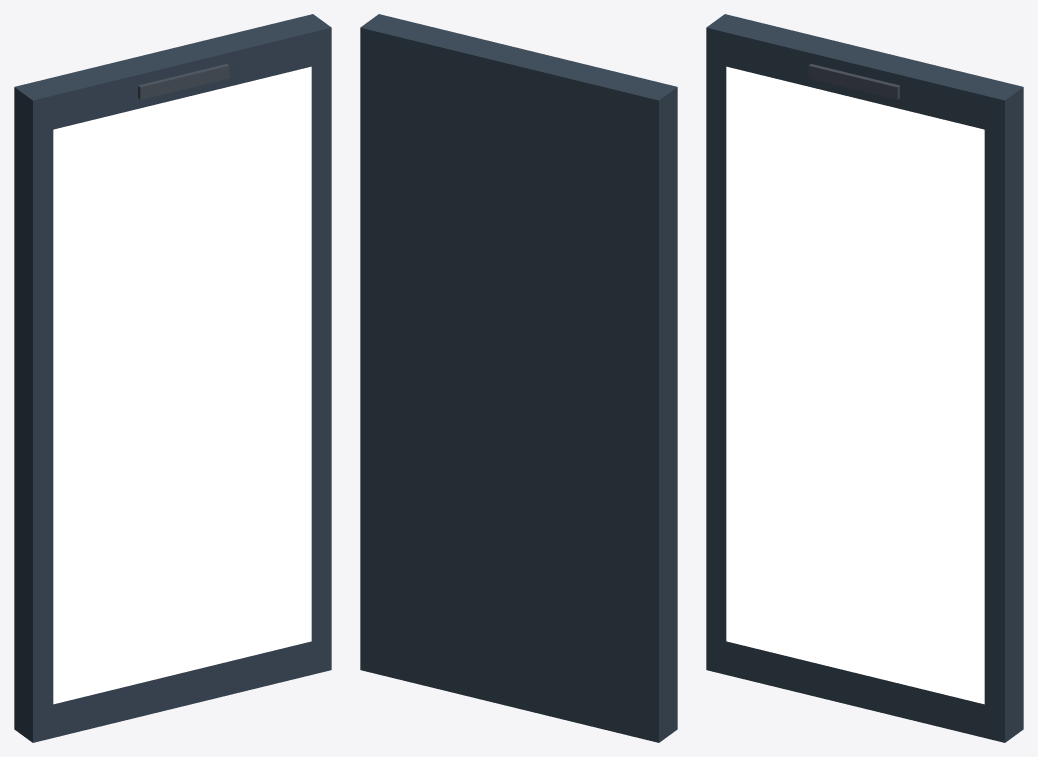
The model's file is tabcura-phone.gltf.
3 views of the same model, side by side, from view 1: azimuth 30°, elevation 25°; view 2: azimuth 150°, elevation 25°; view 3: azimuth 330°, elevation 25° (orthographic).
Visible parts, largest first — view 1: Screen, PhoneBody, Notch; view 2: PhoneBody; view 3: Screen, PhoneBody, Notch.
Part boxes in pixels (box(x1,y1,x2,y2)): Screen: box(53, 66, 311, 704); PhoneBody: box(14, 14, 331, 742); Notch: box(138, 64, 229, 99); PhoneBody: box(360, 14, 677, 742); Screen: box(726, 66, 984, 704); PhoneBody: box(706, 14, 1023, 742); Notch: box(808, 64, 899, 99).
Bounding box in the file's own units: 0.74 × 1.52 × 0.091.
